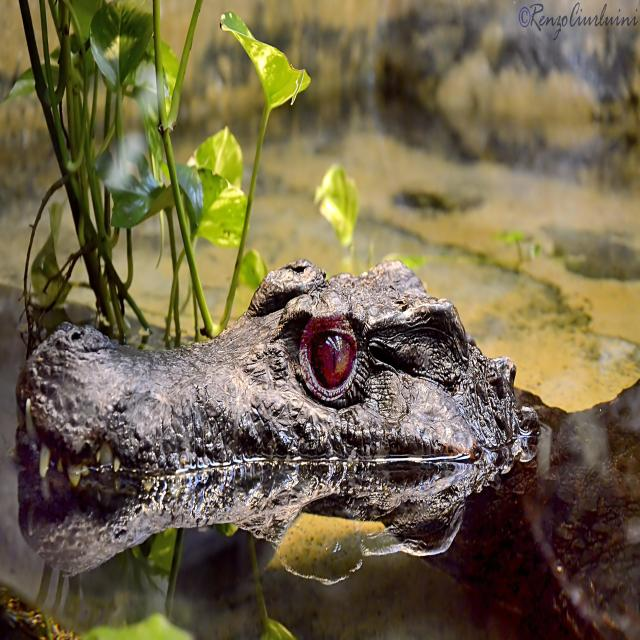crocodile: (15, 252, 540, 473)
